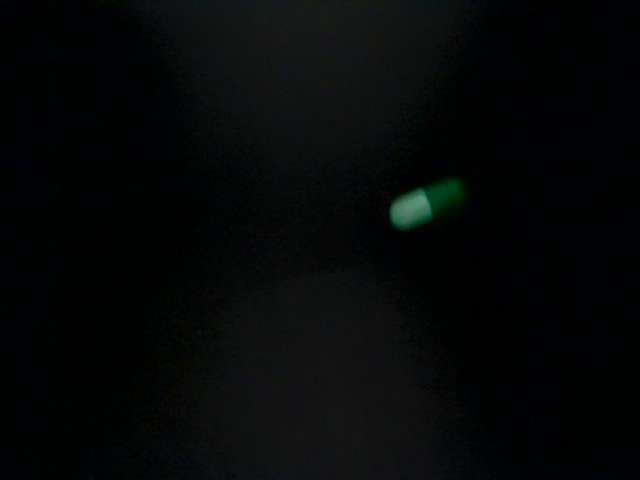YHLJ: (453, 259, 551, 342)
